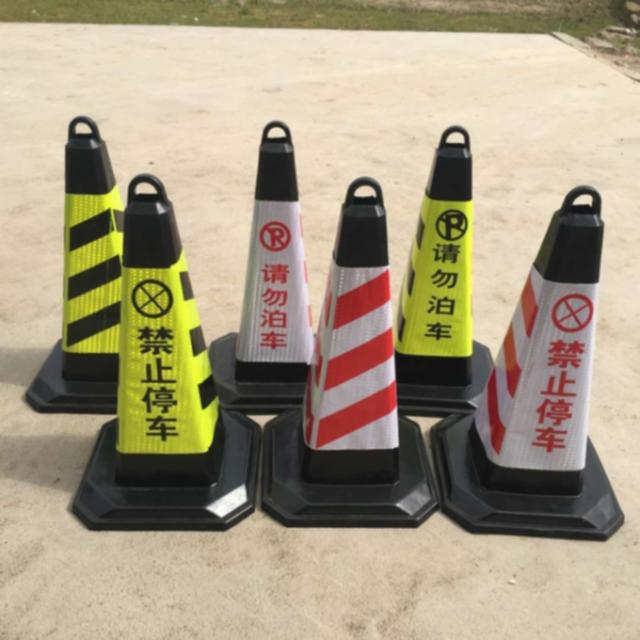reflective_cone: (431, 179, 624, 540), (71, 177, 258, 530), (260, 177, 438, 524), (204, 118, 314, 412), (22, 116, 122, 410), (392, 122, 489, 415)
